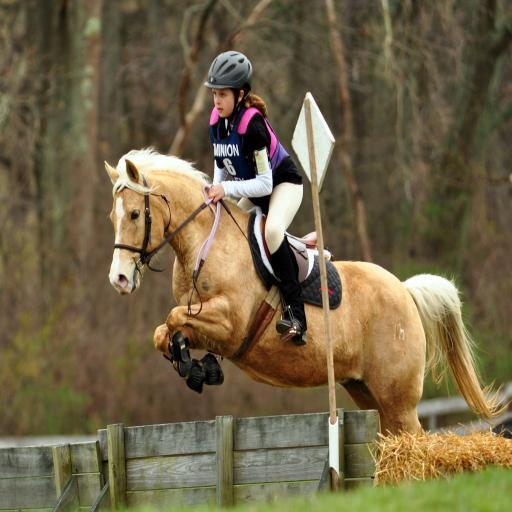horse: (102, 146, 512, 442)
